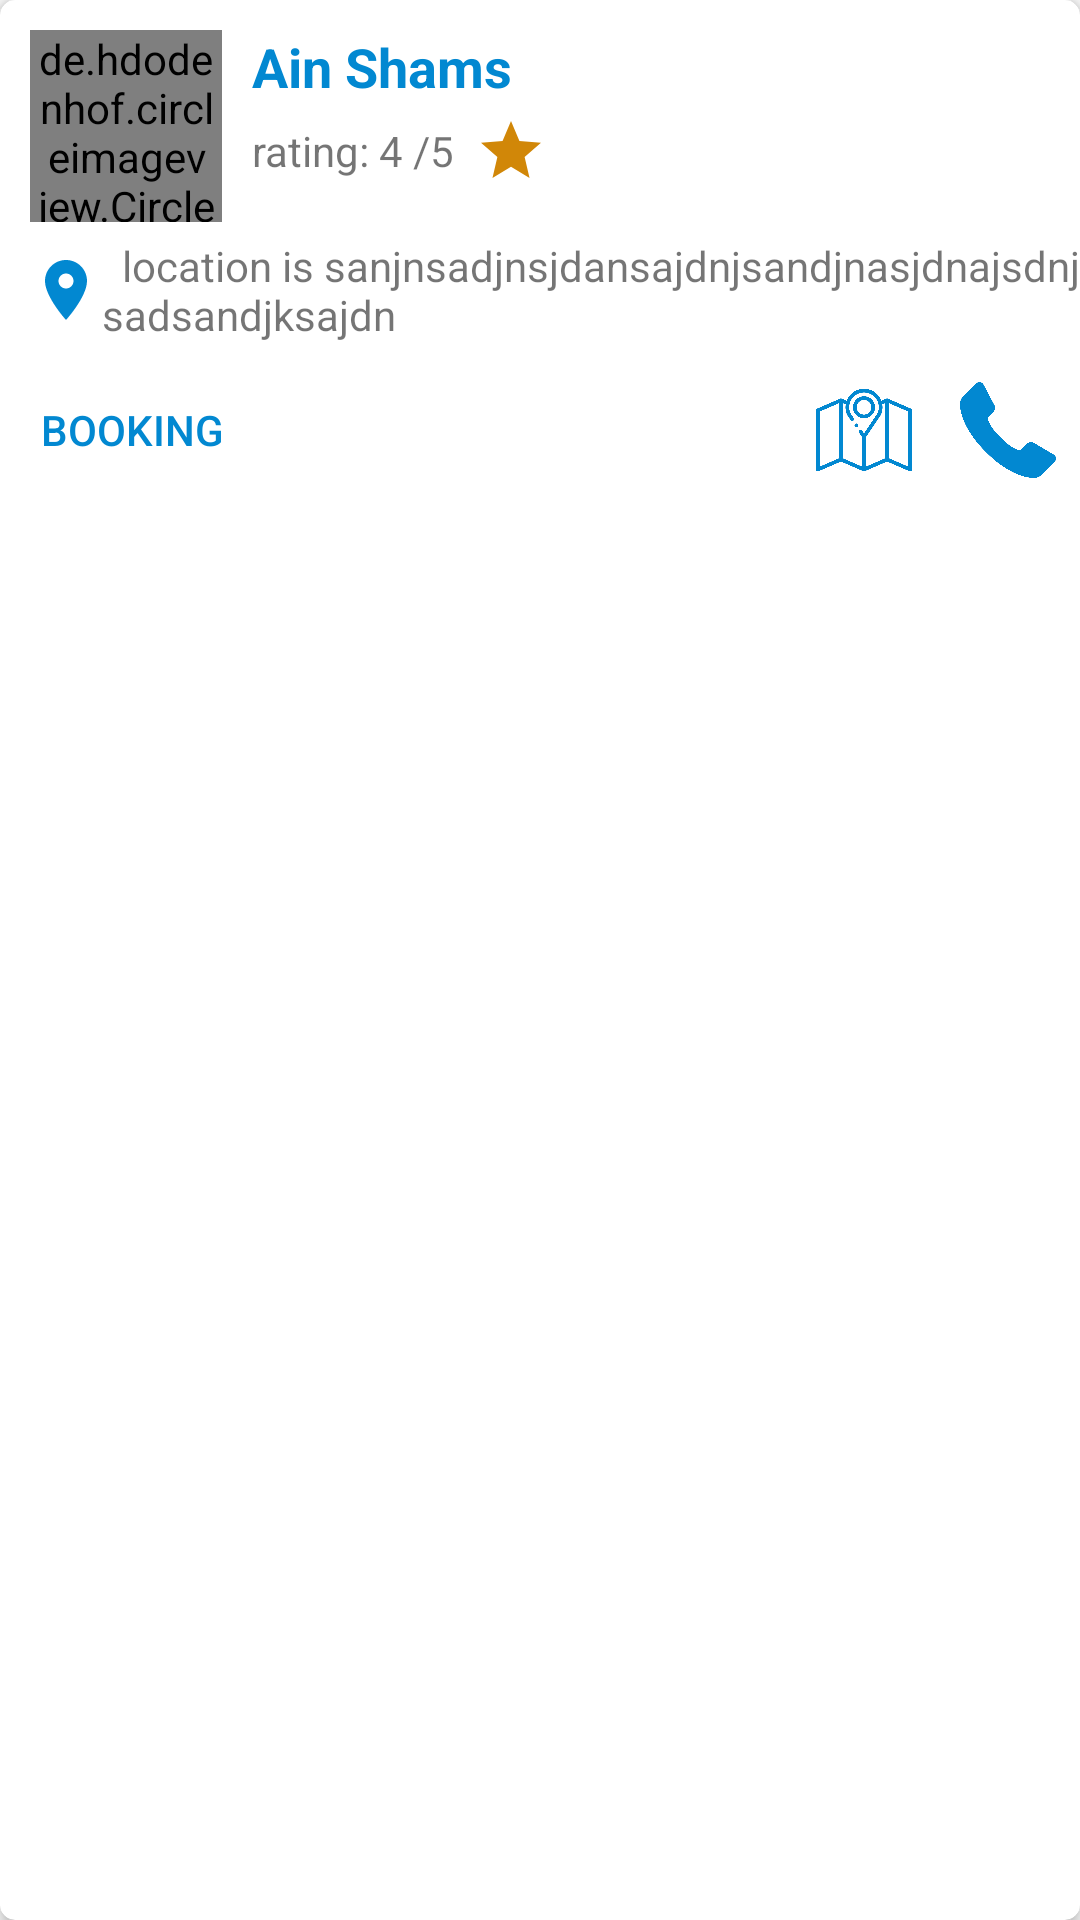

Screen size 1080px×1920px. Icon name, then its box in pixels as {"left": x1, "top": y1, "right": x2, "bottom": y2}:
map: {"left": 816, "top": 389, "right": 912, "bottom": 471}
phone: {"left": 960, "top": 382, "right": 1056, "bottom": 478}
